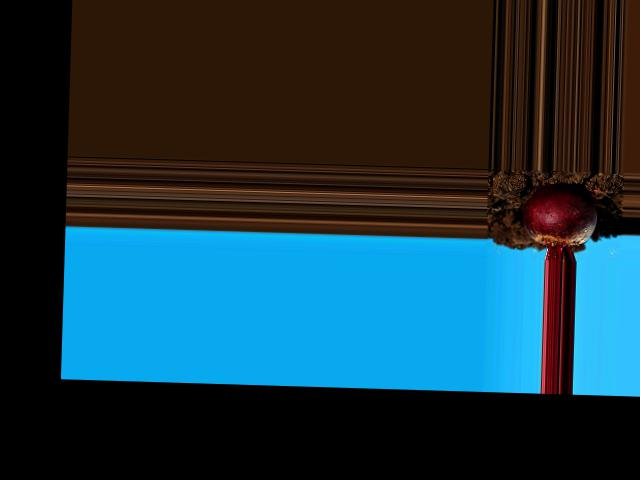beet: (521, 182, 598, 262)
